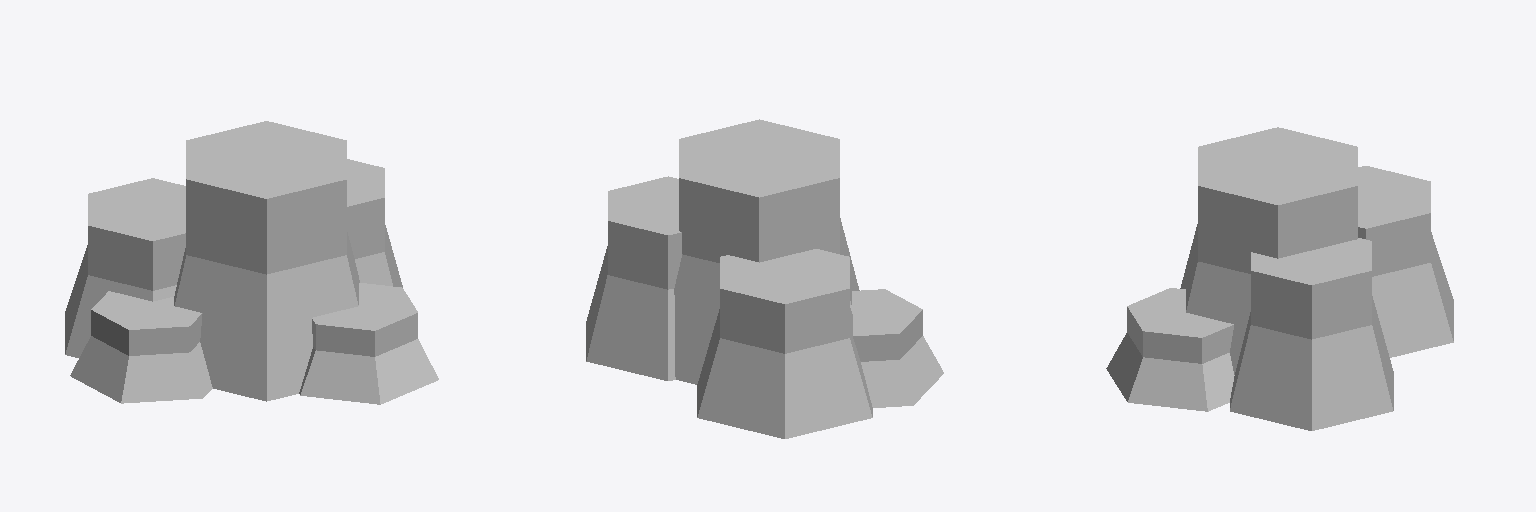
File: rock_largeA.obj
3 views of the same model, side by side, from view 1: azimuth 30°, elevation 25°; view 2: azimuth 150°, elevation 25°; view 3: azimuth 270°, elevation 25° (orthographic).
Visible parts, largest first — view 1: rock_largeA; view 2: rock_largeA; view 3: rock_largeA.
Boxes of the visible parts, <box> form: rock_largeA: <box>65,121,438,404</box>; rock_largeA: <box>586,119,943,438</box>; rock_largeA: <box>1106,127,1453,430</box>.
Size of the model in its own units: 0.9193 by 0.5 by 0.8339.